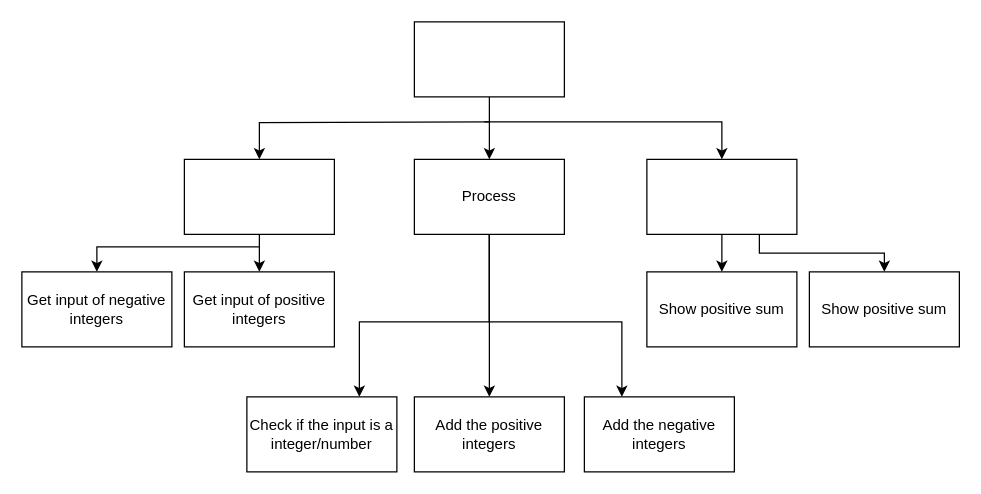
Some shapes in this 981 by 494 pixel diagram are drawn without their labels. The centre of each missing label's shape, as x and y in pixels:
Input: [258,196]
Output: [721,196]
Sum of negative and positive numbers: [488,59]
